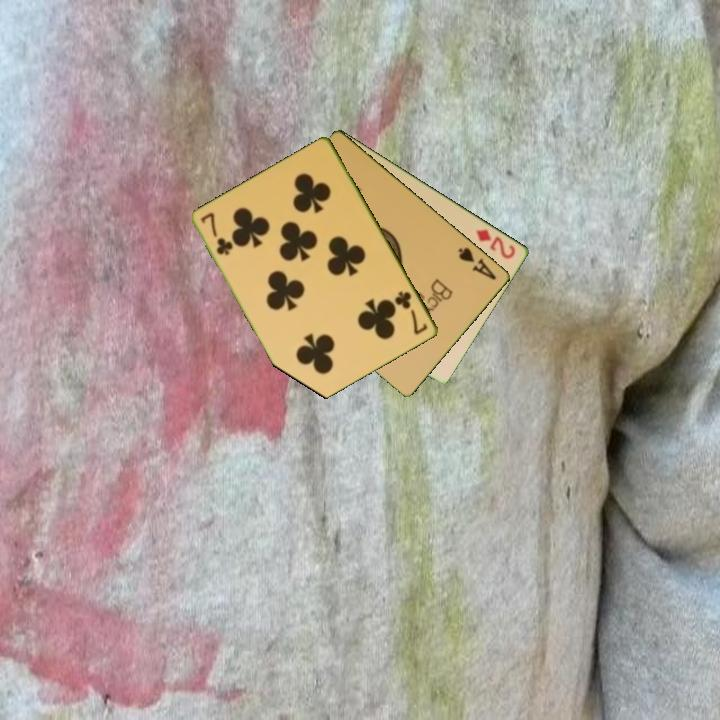2d: (473, 225, 519, 262)
7c: (392, 288, 431, 338), (198, 209, 236, 258)
As: (455, 244, 499, 283)
